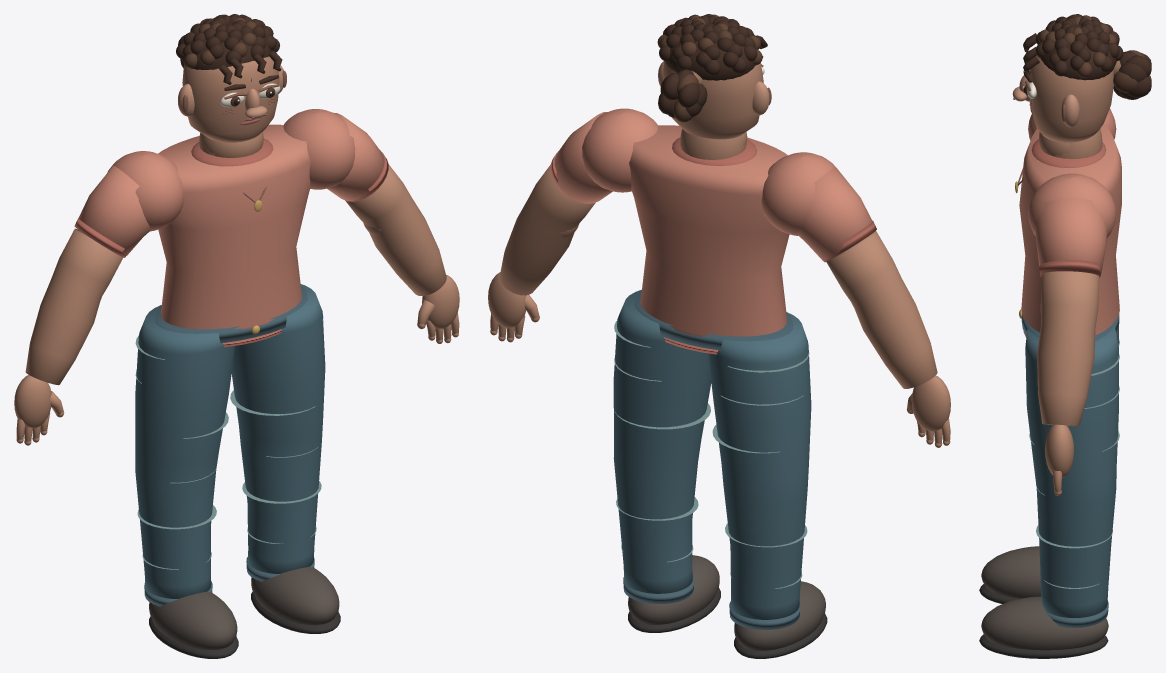
3 views of the same model, side by side, from view 1: azimuth 30°, elevation 25°; view 2: azimuth 150°, elevation 25°; view 3: azimuth 270°, elevation 25° (orthographic). The views are drawn at different scales.
Parts seen in each view (by area): view 1: jersey torso, right woven trouser leg, left woven trouser leg, right arm, left arm, head sculpt, left shoe, right shoe, left shoulder, right short sleeve, right shoulder, left short sleeve (+8 smaller); view 2: jersey torso, right woven trouser leg, left woven trouser leg, right arm, left arm, left shoulder, right short sleeve, right shoulder, head sculpt, left shoe, right shoe, left short sleeve (+10 smaller); view 3: left woven trouser leg, left arm, jersey torso, head sculpt, left shoe, left short sleeve, right shoe, left shoulder, left palm, left sole, collar band, hair cap (+12 smaller).
Part boxes in pixels (<box>): jersey torso: <box>158,124,310,329</box>; right woven trouser leg: <box>135,305,234,598</box>; left woven trouser leg: <box>231,284,325,573</box>; right arm: <box>25,228,123,385</box>; left arm: <box>345,164,446,295</box>; head sculpt: <box>182,56,279,142</box>; left shoe: <box>251,567,339,625</box>; right shoe: <box>149,591,237,649</box>; left shoulder: <box>283,109,355,189</box>; right short sleeve: <box>78,166,150,255</box>; right shoulder: <box>107,151,183,231</box>; left short sleeve: <box>327,112,384,200</box>; jersey torso: <box>629,125,789,336</box>; right woven trouser leg: <box>708,312,811,619</box>; left woven trouser leg: <box>613,289,711,593</box>; right arm: <box>826,231,937,388</box>; left arm: <box>499,165,595,295</box>; left shoulder: <box>582,108,657,192</box>; right short sleeve: <box>798,167,872,261</box>; right shoulder: <box>761,152,835,235</box>; head sculpt: <box>663,61,763,139</box>; left shoe: <box>628,555,719,624</box>; right shoe: <box>734,581,825,650</box>; left short sleeve: <box>554,112,612,203</box>; left woven trouser leg: <box>1025,326,1118,617</box>; left arm: <box>1037,271,1099,426</box>; jersey torso: <box>1019,124,1121,335</box>; head sculpt: <box>1029,55,1113,142</box>; left shoe: <box>981,596,1108,650</box>; left short sleeve: <box>1035,198,1107,273</box>; right shoe: <box>981,546,1041,598</box>; left shoulder: <box>1028,173,1116,238</box>; left palm: <box>1045,424,1073,477</box>; left sole: <box>979,634,1108,658</box>; collar band: <box>1031,139,1106,167</box>; hair cap: <box>1040,24,1116,80</box>.
Bounding box in the file's own units: 1.31 × 1.69 × 0.438.
